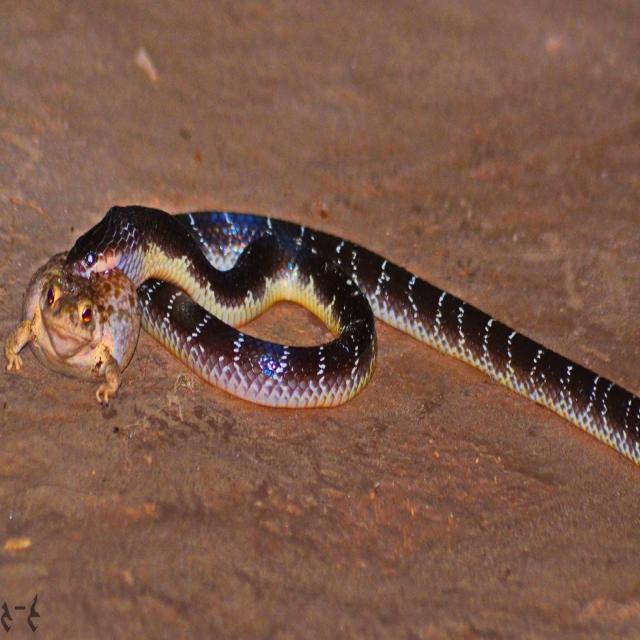Snake: (6, 202, 639, 468)
